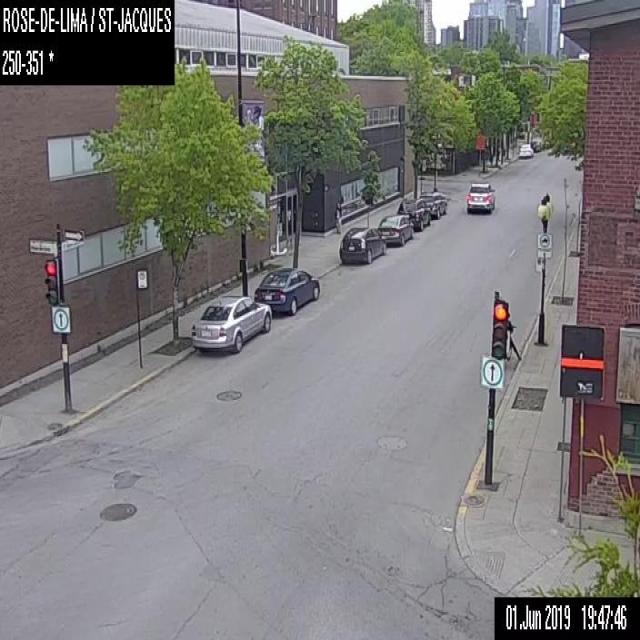pedestrian: (334, 198, 341, 234)
vehicle: (188, 295, 274, 352), (255, 266, 319, 312), (337, 225, 386, 264), (377, 215, 416, 244), (395, 198, 430, 228), (464, 179, 494, 212), (418, 190, 448, 217), (516, 142, 532, 158)
